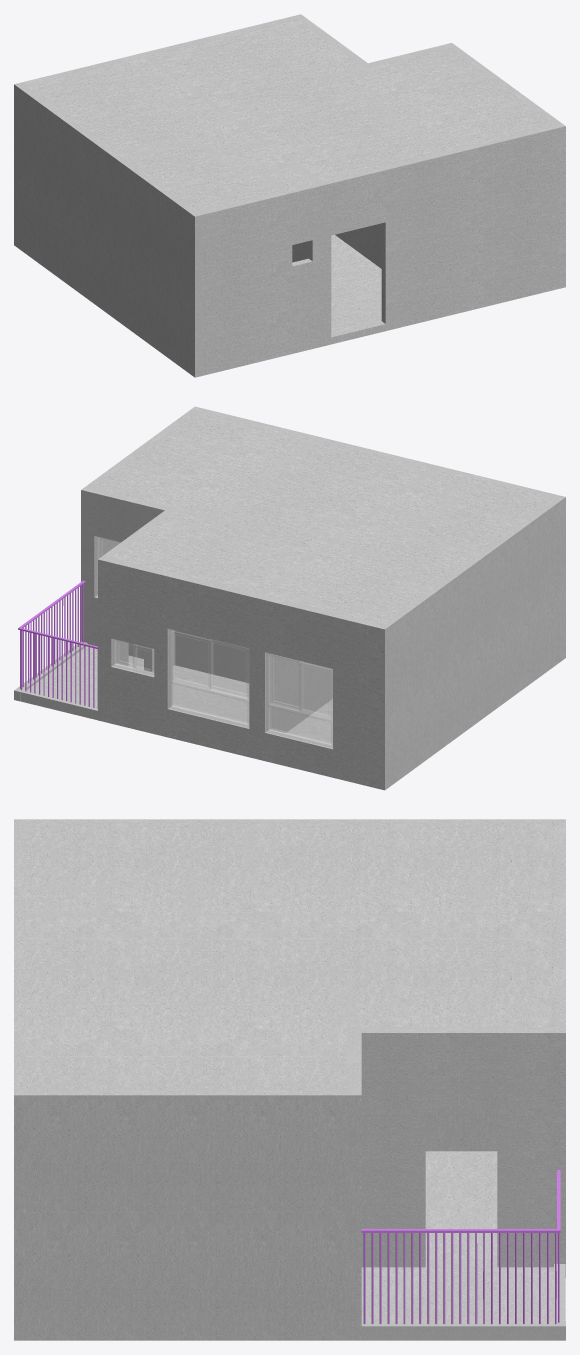
File: twoBR-2-only.gltf
The picture shows the model from 3 angles, top to bottom: view 1: azimuth 30°, elevation 25°; view 2: azimuth 150°, elevation 25°; view 3: azimuth 270°, elevation 25°; orthographic projection. The views are drawn at different scales.
Bounding box in the file's own units: 8.2 × 3.4 × 6.93.
3 materials, 1 textured.
